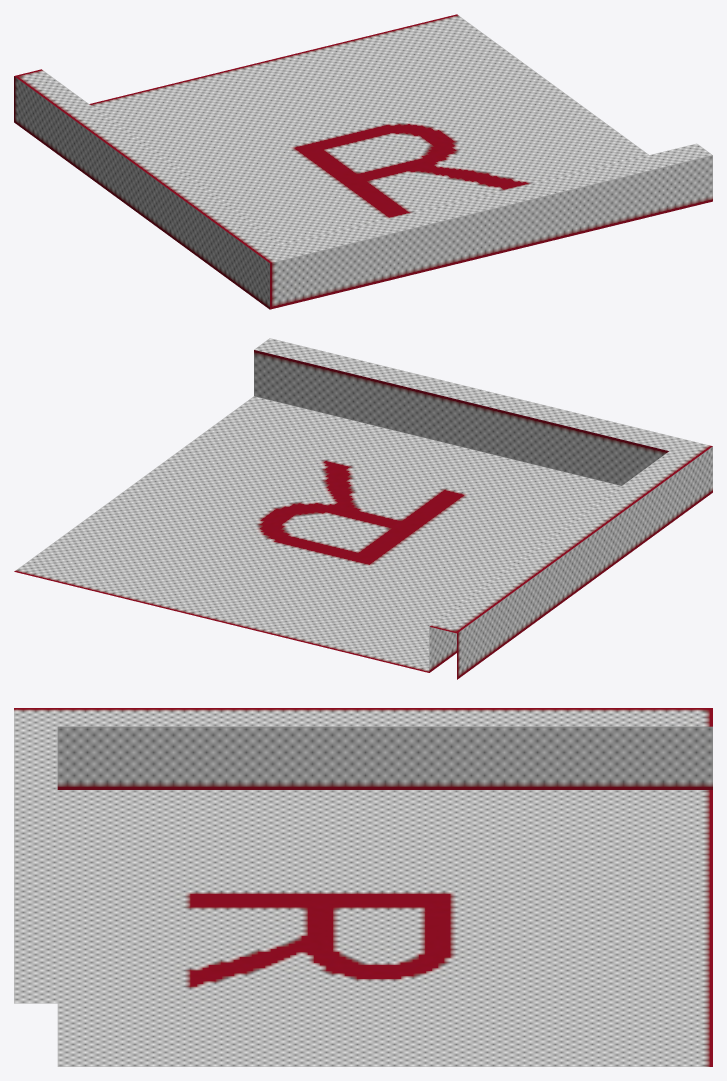
Rendered from Roof_Corner.fbx.
3 views of the same model, one above another, from view 1: azimuth 30°, elevation 25°; view 2: azimuth 150°, elevation 25°; view 3: azimuth 270°, elevation 25° (orthographic). The views are drawn at different scales.
Visible parts, largest first — view 1: Roof_Corner; view 2: Roof_Corner; view 3: Roof_Corner.
Part boxes in pixels (x1,y1,x2,y2): Roof_Corner: [14, 14, 712, 309]; Roof_Corner: [14, 338, 712, 679]; Roof_Corner: [14, 708, 712, 1066].
Size of the model in its own units: 1000 by 100 by 1000.
